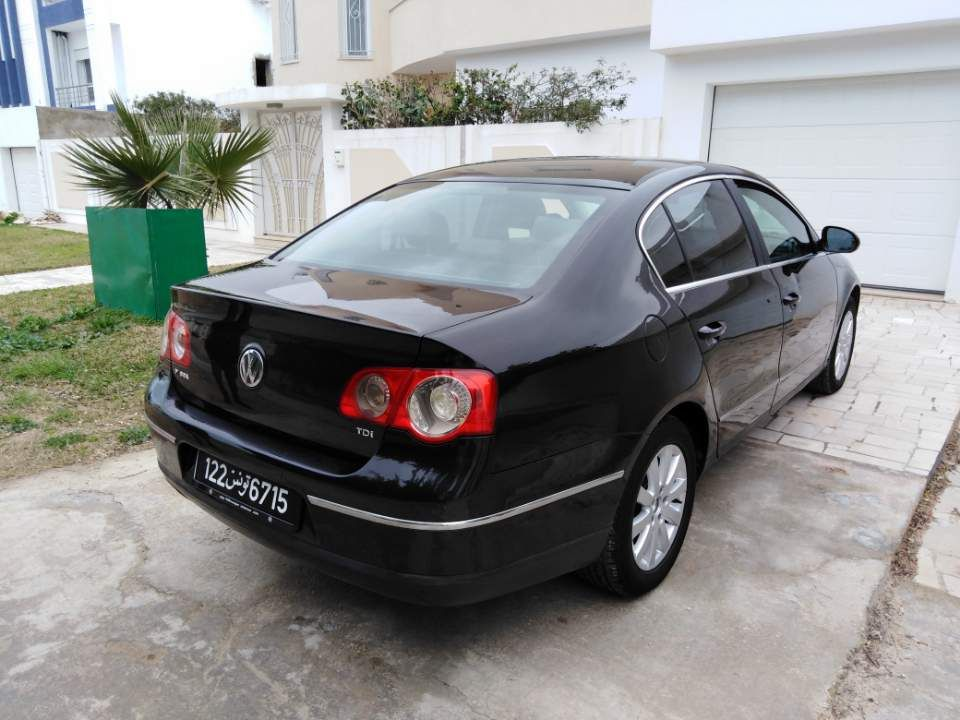LP: (196, 448, 291, 525)
